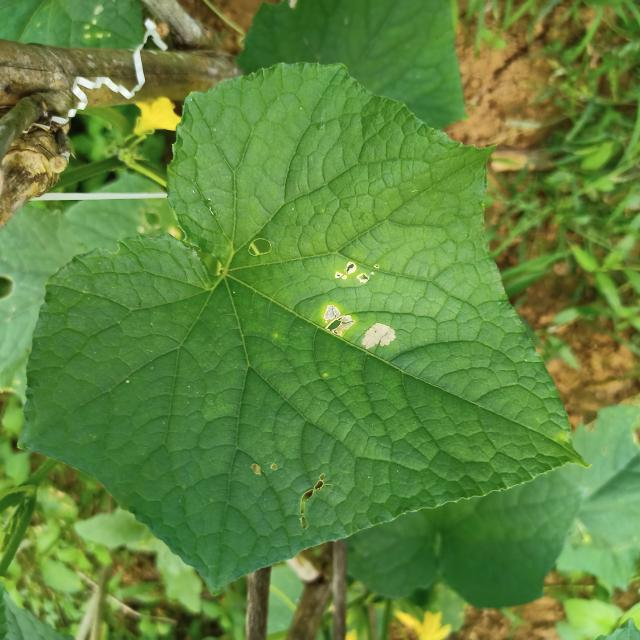disease_cucumber: (325, 253, 399, 355)
